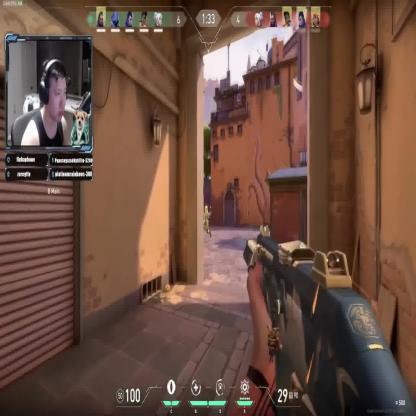enemy: (202, 204, 212, 238)
enemy_head: (204, 204, 209, 214)
